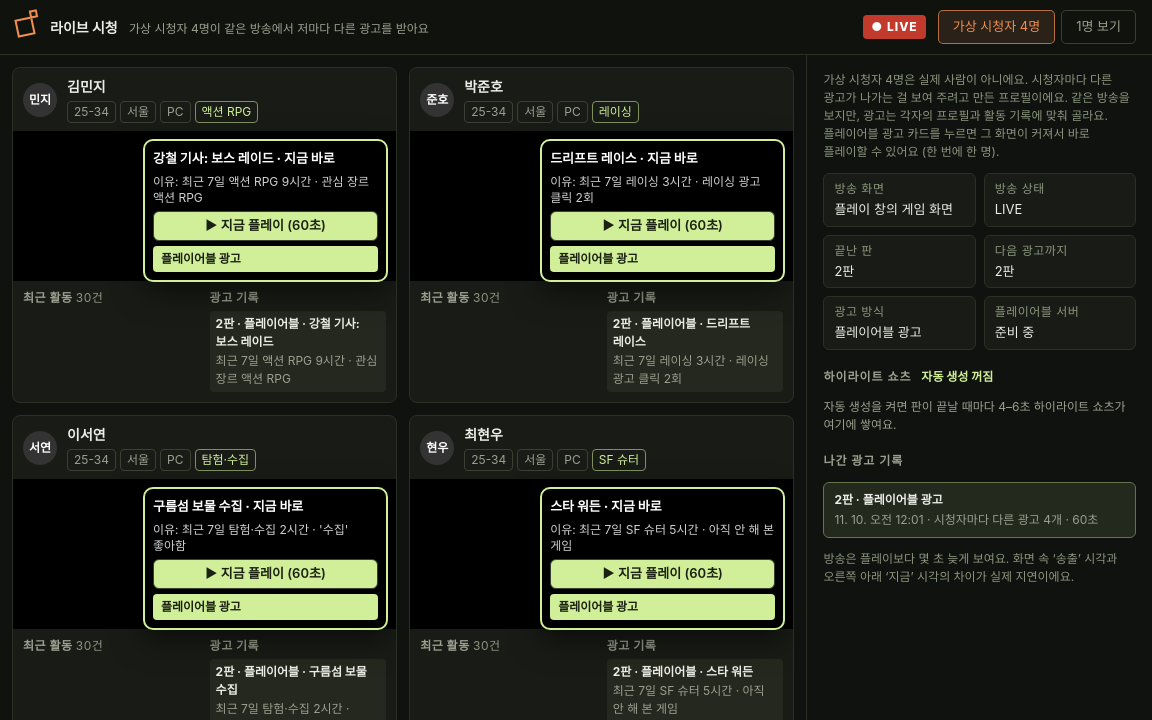
Test case: a click expands that tile to play; one game at a time per page › a second card waits its turn (대기 n번째) and plays when the first is done; the server line counts too
Later steps or results of the test are not shown.
Click the button "▶ 지금 플레이 (60초)" below "이유: 최근 7일 레이싱 3시간 · 레이싱 광고 클릭 2회": [663, 226] box [550, 211, 775, 241]
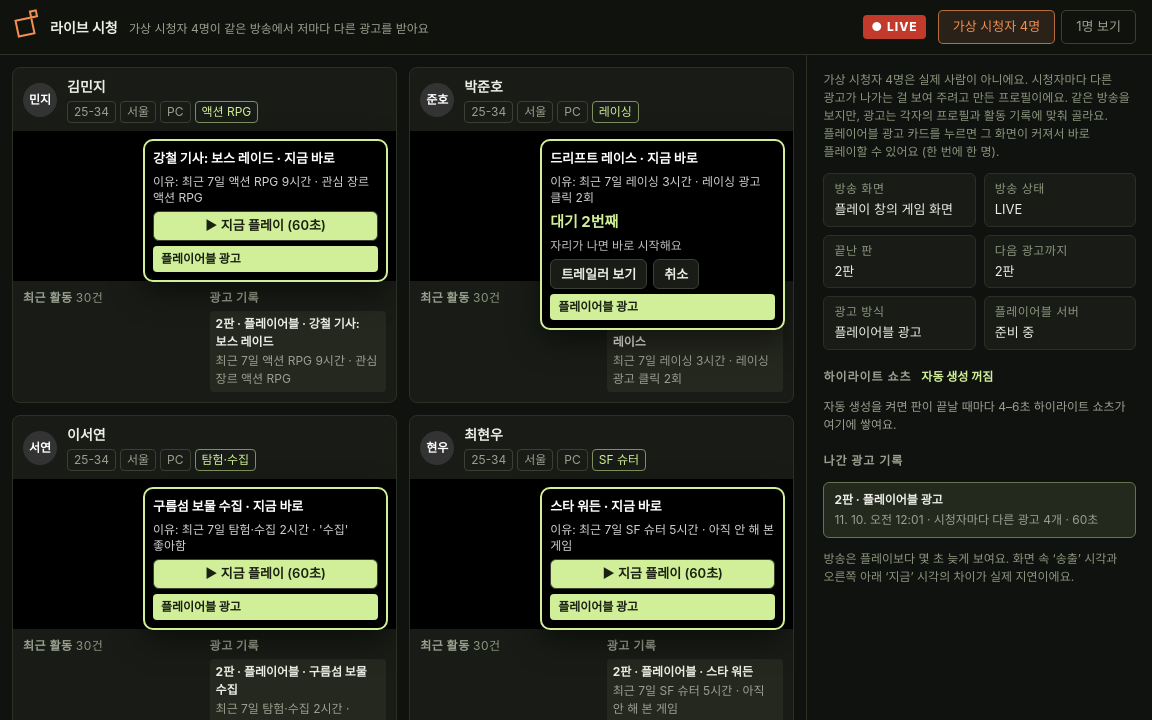
Check: the text "대기 2번째" is shown, box [550, 212, 618, 231]
Click the button "▶ 지금 플레이 (60초)" below "이유: 최근 7일 액션 RPG 9시간 · 관심 장르 액션 RPG": [266, 226] box [153, 211, 378, 241]
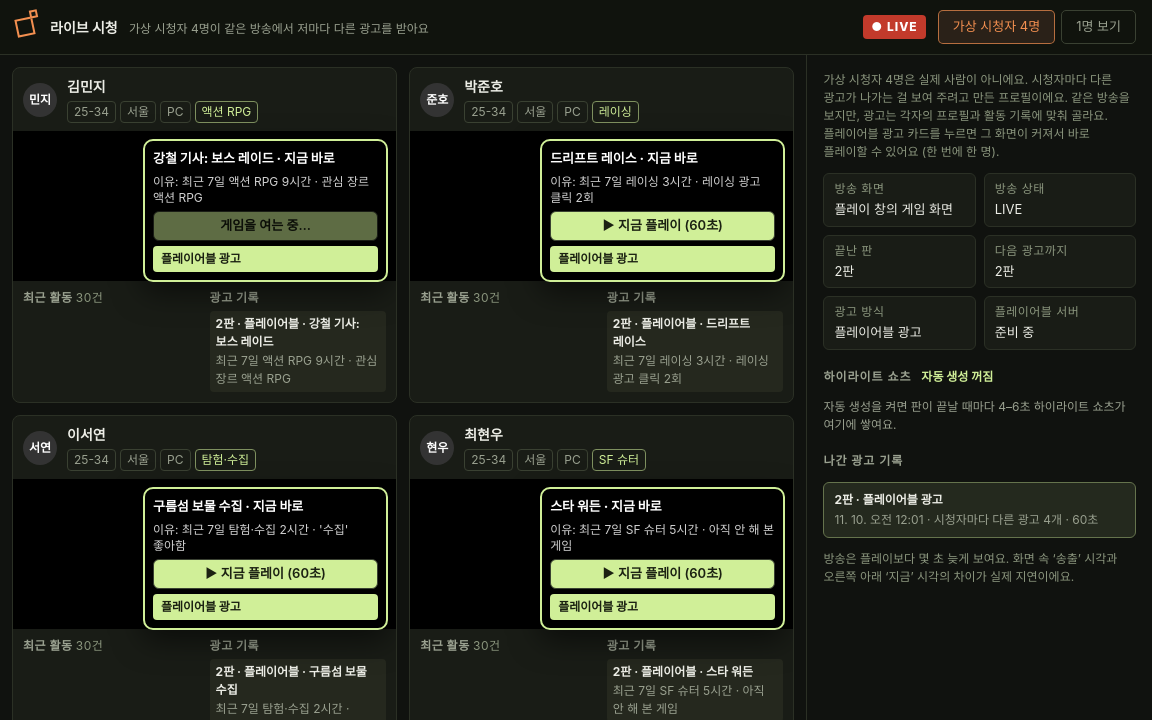
Click the button "▶ 지금 플레이 (60초)" below "이유: 최근 7일 탐험·수집 2시간 · '수집' 좋아함": [266, 574] box [153, 559, 378, 589]
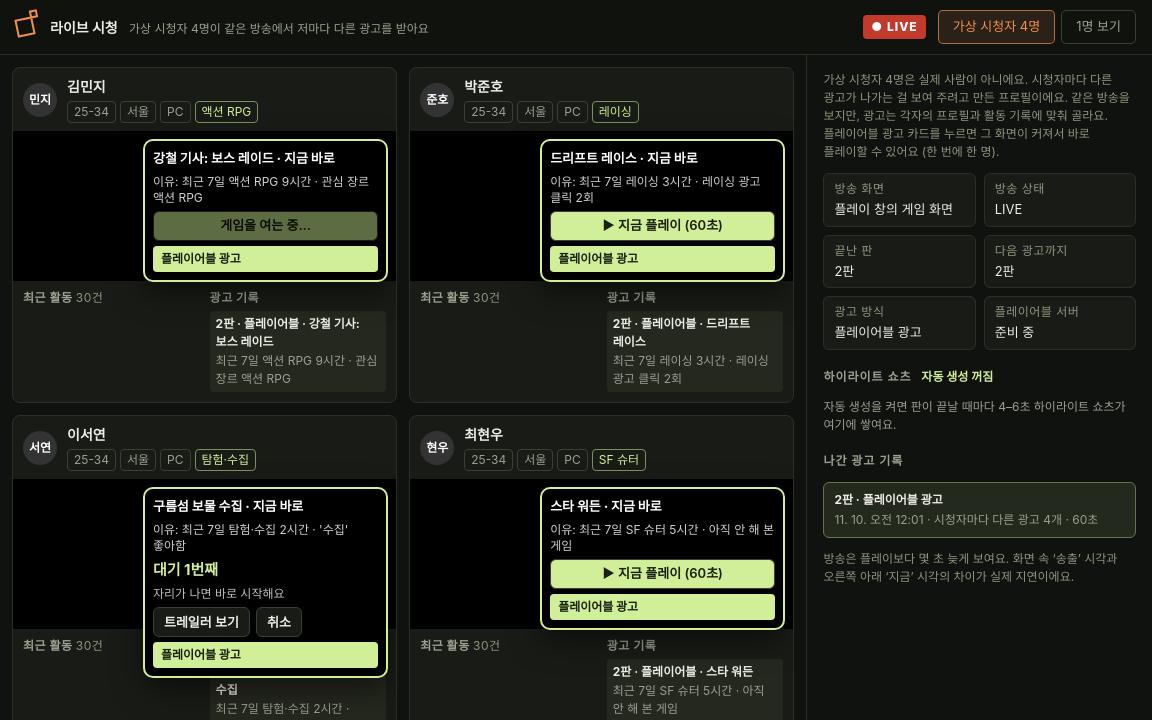
Click the button "취소": [279, 622] box [256, 607, 302, 637]
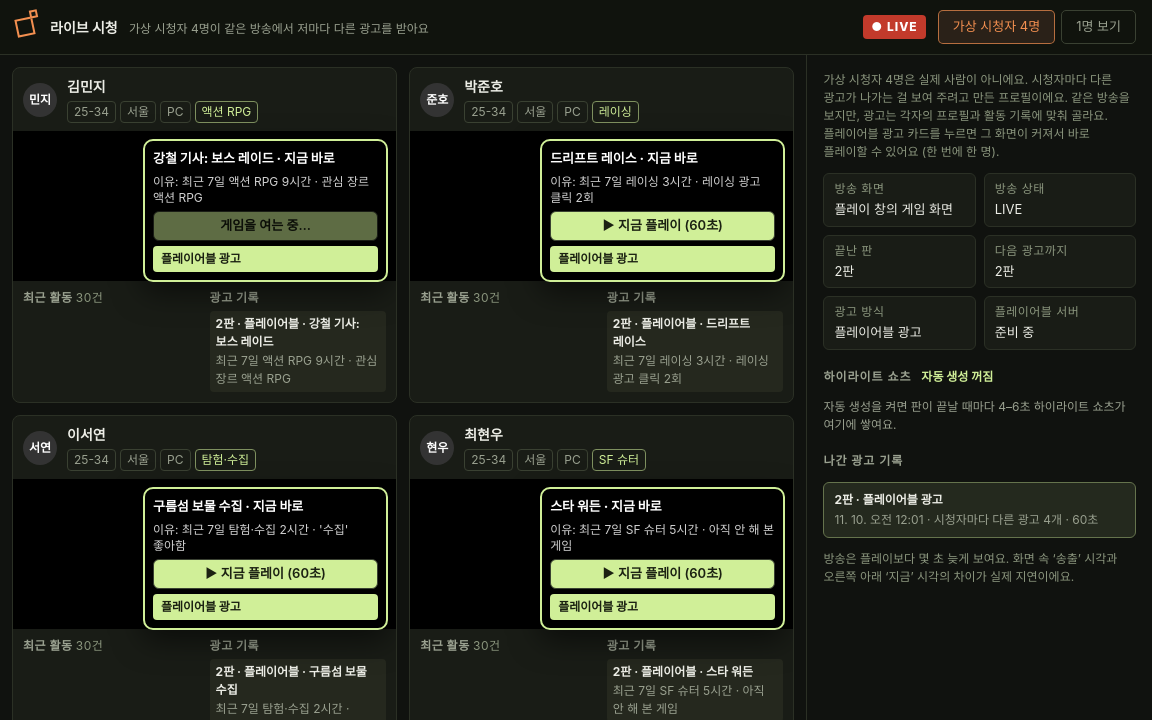
Check: the message "대기 1번째 자리가 나면 바로 시작해요 트레일러 보기 취소" is gone
